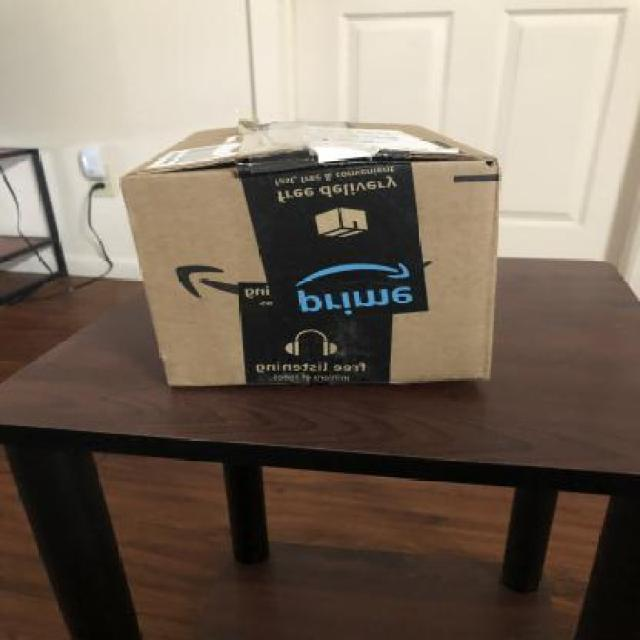cardboxes: (114, 120, 514, 395)
